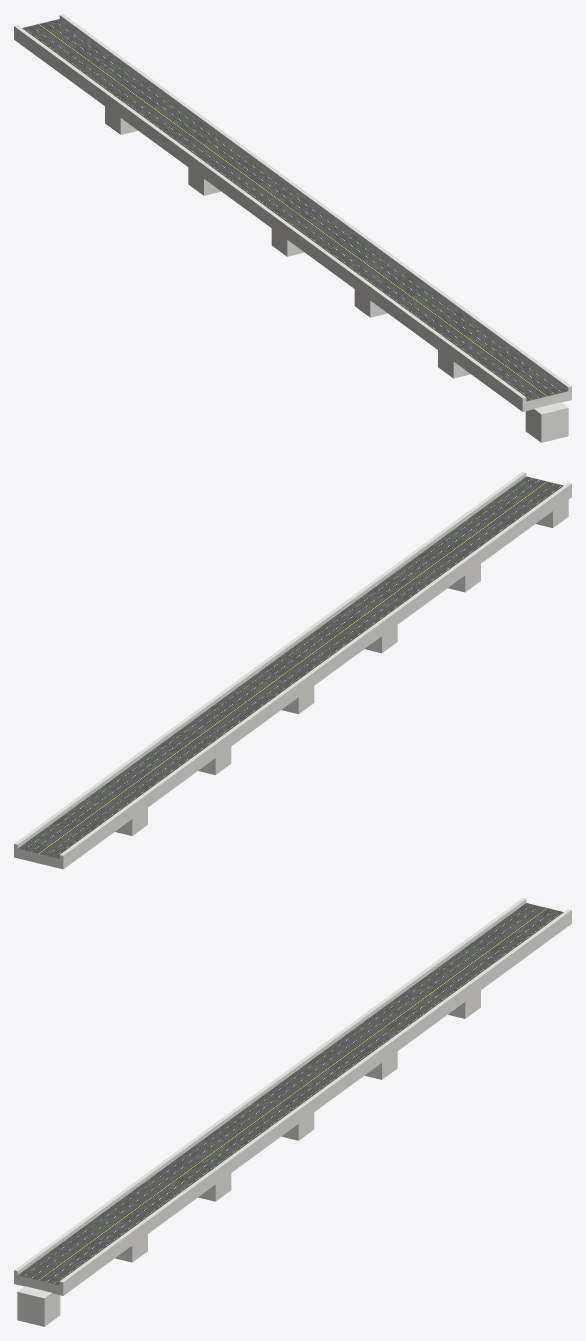
Rendered from highway_straight.fbx.
The picture shows the model from 3 angles, top to bottom: view 1: azimuth 30°, elevation 25°; view 2: azimuth 150°, elevation 25°; view 3: azimuth 330°, elevation 25°; orthographic projection.
Visible parts, largest first — view 1: highway; view 2: highway; view 3: highway.
Part boxes in pixels (left/top/right/bottom): highway: left=14, top=14, right=571, bottom=442; highway: left=14, top=471, right=571, bottom=869; highway: left=14, top=898, right=571, bottom=1326.
Size of the model in its own units: 68.44 by 55.12 by 1241.
